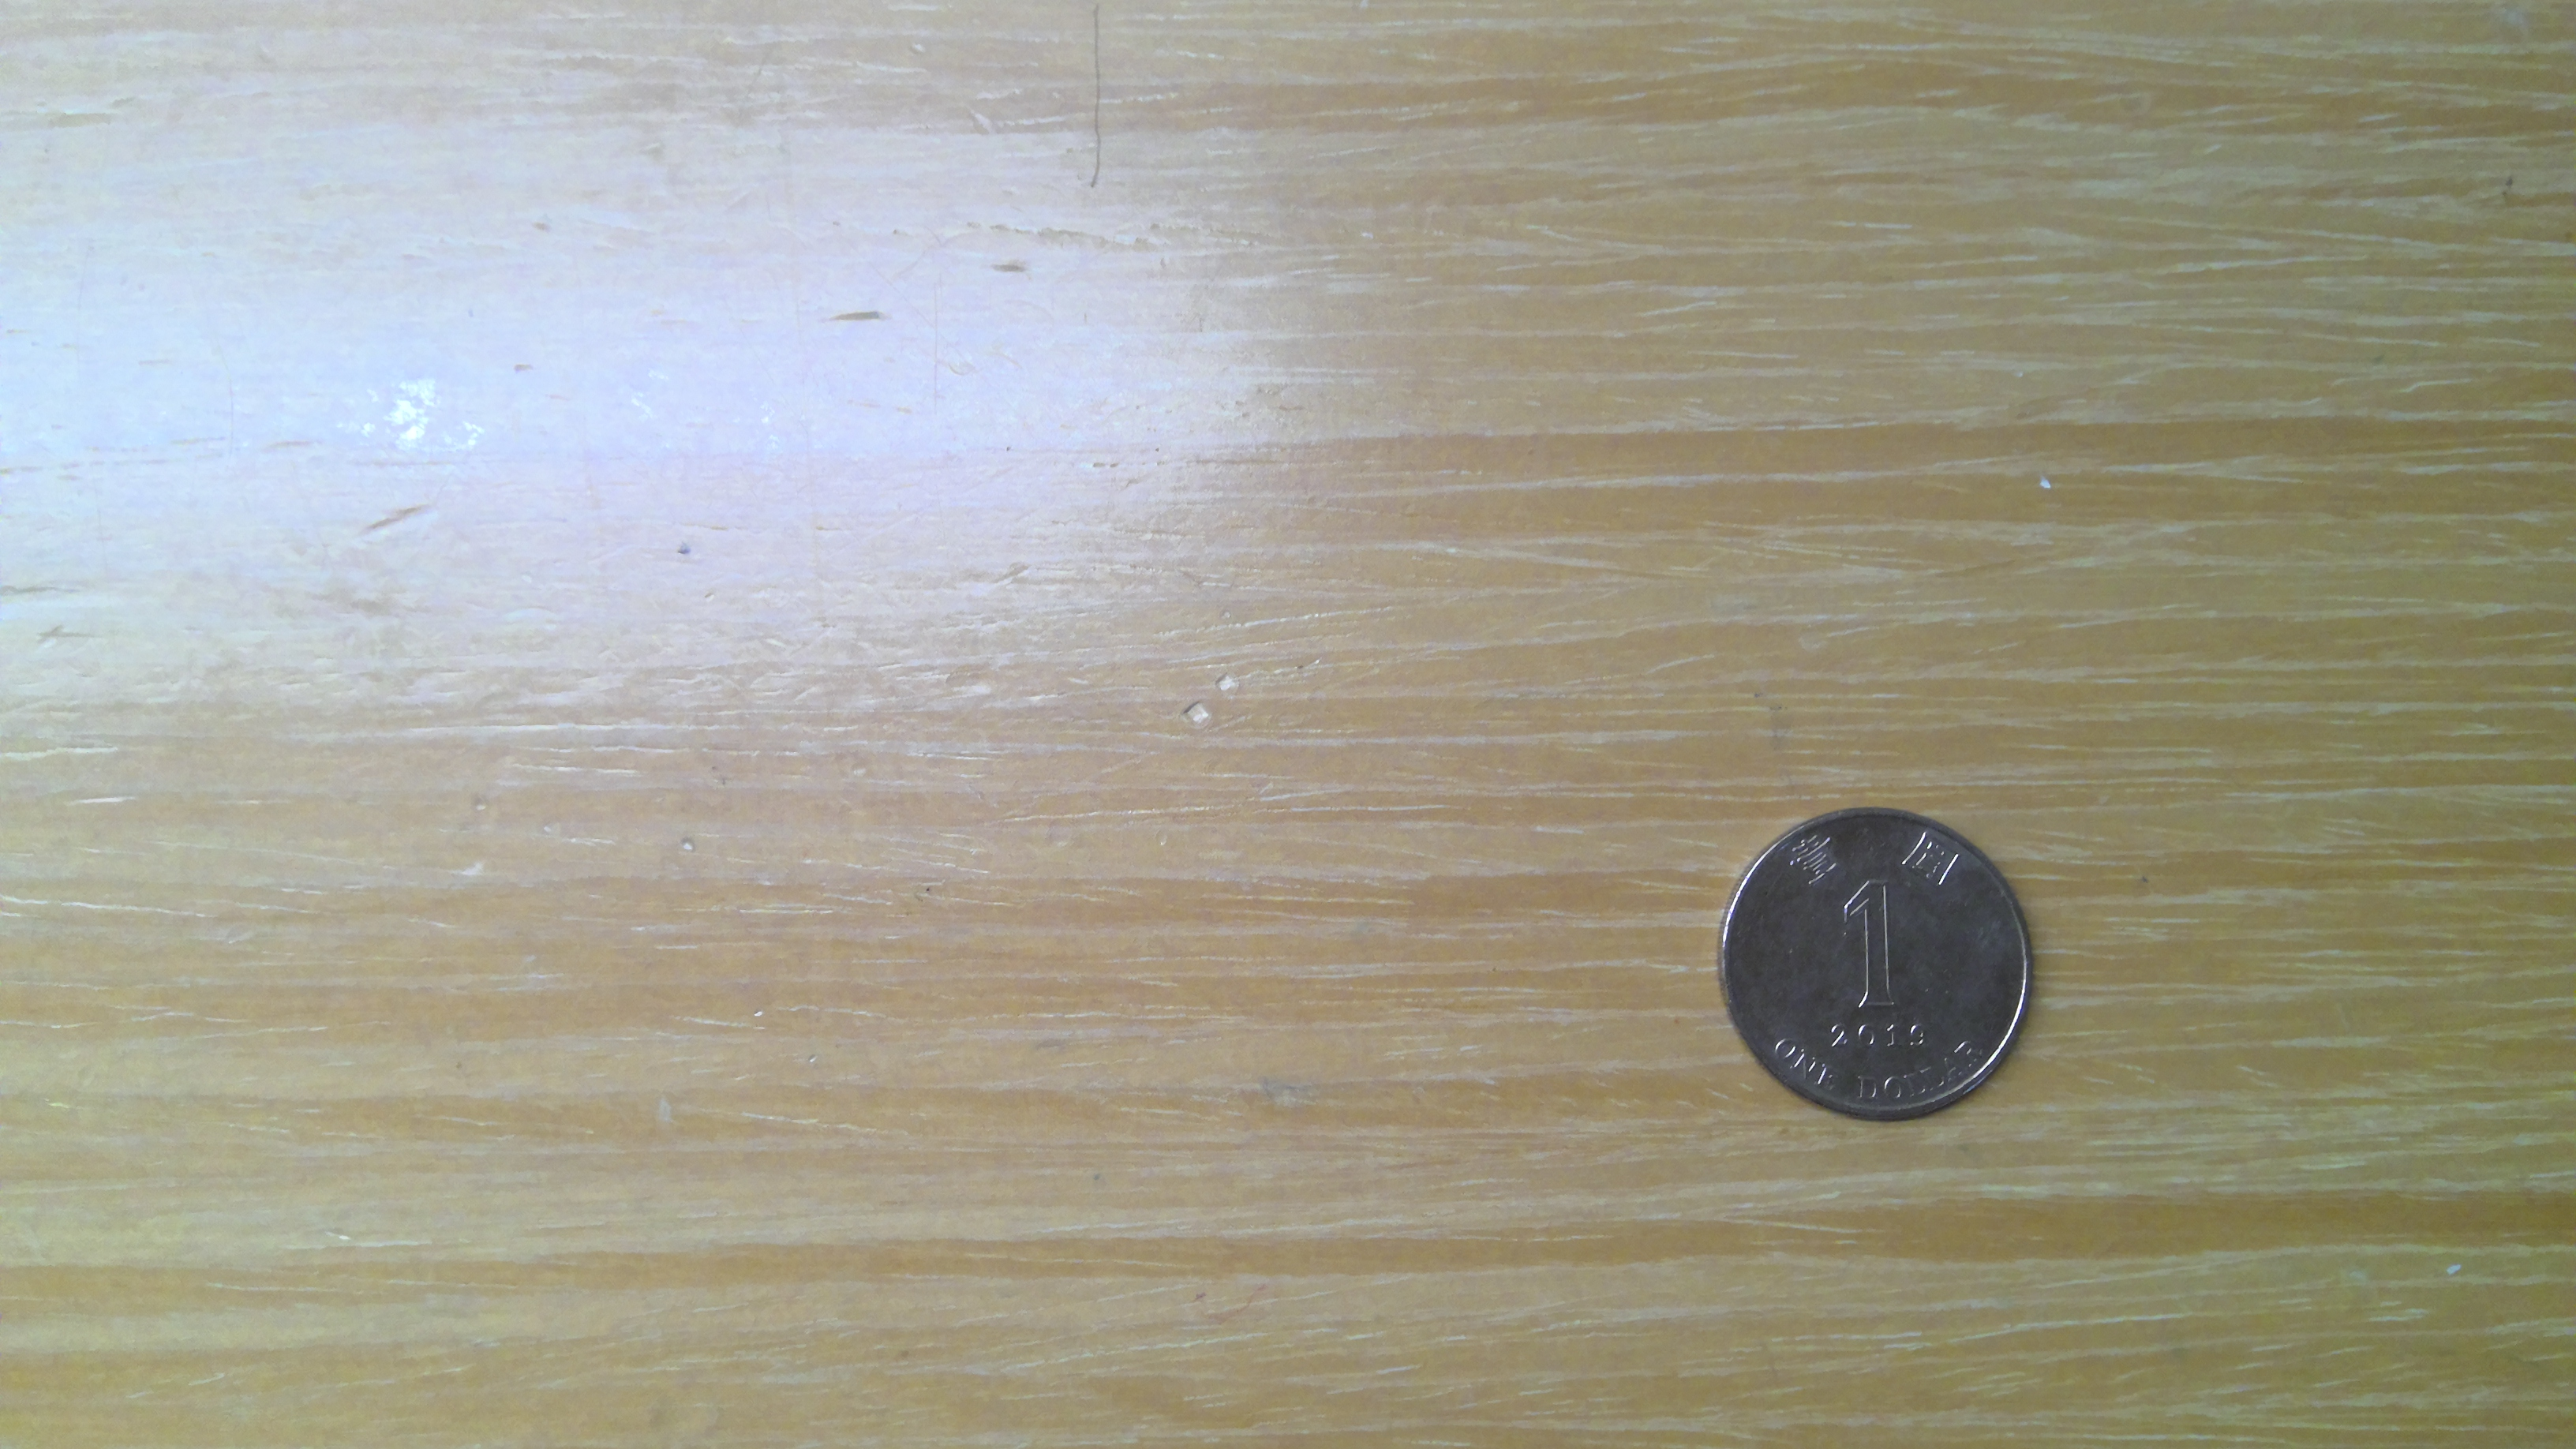one-dollar: (1721, 810, 2033, 1125)
